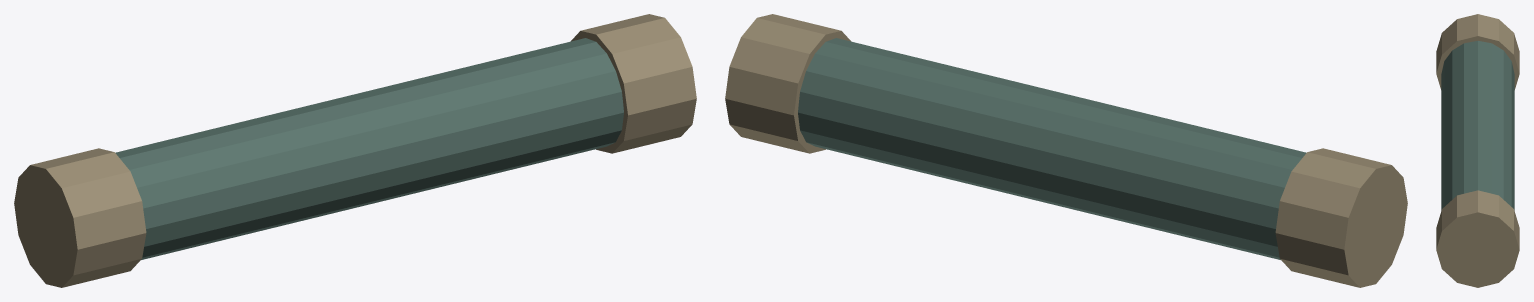
Rendered from fuse.obj.
The picture shows the model from 3 angles, left to right: view 1: azimuth 30°, elevation 25°; view 2: azimuth 150°, elevation 25°; view 3: azimuth 270°, elevation 25°; orthographic projection. The views are drawn at different scales.
Visible parts, largest first — view 1: fuse; view 2: fuse; view 3: fuse.
Boxes of the visible parts, bbox=[...] form: fuse: bbox=[14, 14, 696, 287]; fuse: bbox=[725, 14, 1407, 287]; fuse: bbox=[1436, 14, 1519, 287].
Size of the model in its own units: 0.45 by 0.08 by 0.08.
